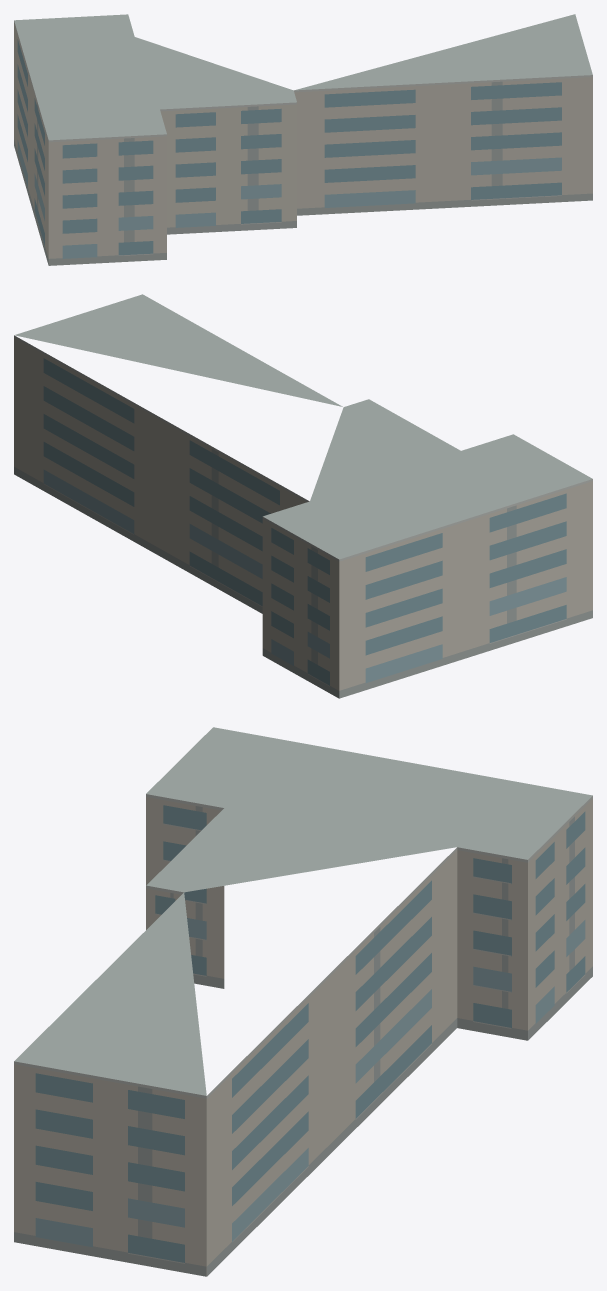
Rendered from residential-fe6548d2-2e58-4ec4-92e5-f97fededb8ab.glb.
3 views of the same model, one above another, from view 1: azimuth 30°, elevation 25°; view 2: azimuth 150°, elevation 25°; view 3: azimuth 270°, elevation 25° (orthographic). The views are drawn at different scales.
Visible parts, largest first — view 1: residential-fe6548d2-2e58-4ec4-92e5-f97fededb8ab.tmp; view 2: residential-fe6548d2-2e58-4ec4-92e5-f97fededb8ab.tmp; view 3: residential-fe6548d2-2e58-4ec4-92e5-f97fededb8ab.tmp.
Part boxes in pixels (x1=…): residential-fe6548d2-2e58-4ec4-92e5-f97fededb8ab.tmp: x1=14, y1=14, x2=592, y2=265; residential-fe6548d2-2e58-4ec4-92e5-f97fededb8ab.tmp: x1=14, y1=294, x2=592, y2=698; residential-fe6548d2-2e58-4ec4-92e5-f97fededb8ab.tmp: x1=14, y1=727, x2=592, y2=1276.
Bounding box in the file's own units: 66.69 × 15.25 × 44.25.
